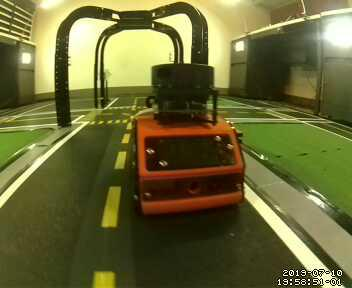pheeno: (128, 61, 247, 218)
